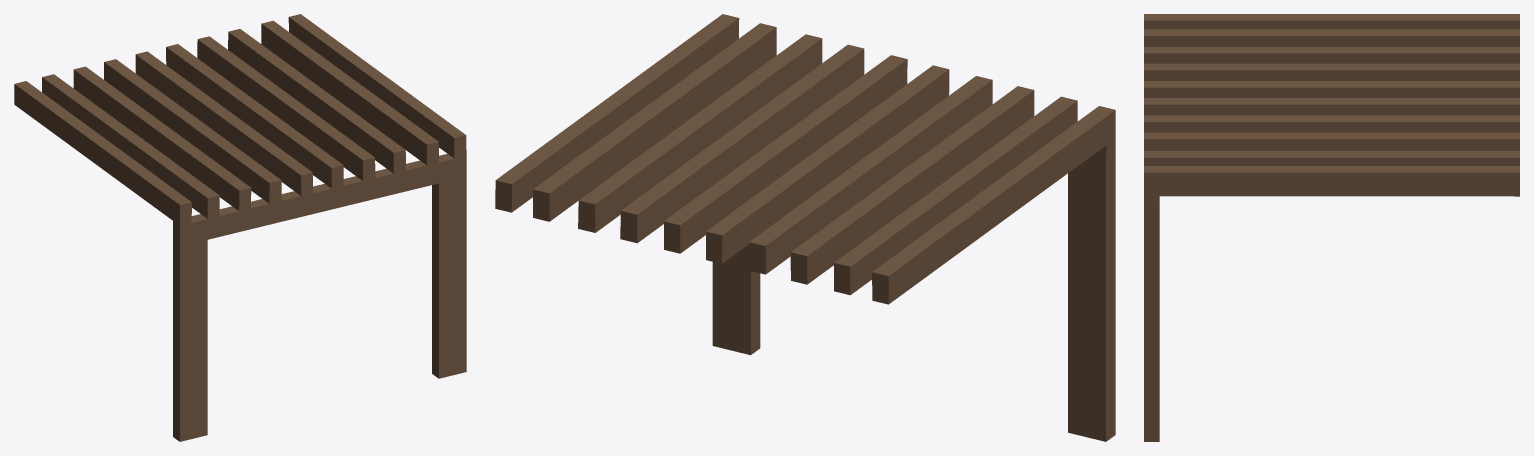
File: Trave 4.fbx
3 renders of one model, left to right at view 1: azimuth 30°, elevation 25°; view 2: azimuth 150°, elevation 25°; view 3: azimuth 270°, elevation 25°, orthographic. The views are drawn at different scales.
Parts seen in each view (by area): view 1: Colonna liscia.001; view 2: Colonna liscia.001; view 3: Colonna liscia.001.
Part boxes in pixels (x1=…): Colonna liscia.001: x1=14, y1=14, x2=466, y2=441; Colonna liscia.001: x1=495, y1=14, x2=1115, y2=441; Colonna liscia.001: x1=1144, y1=14, x2=1519, y2=441.
Size of the model in its own units: 926 by 732 by 926.
